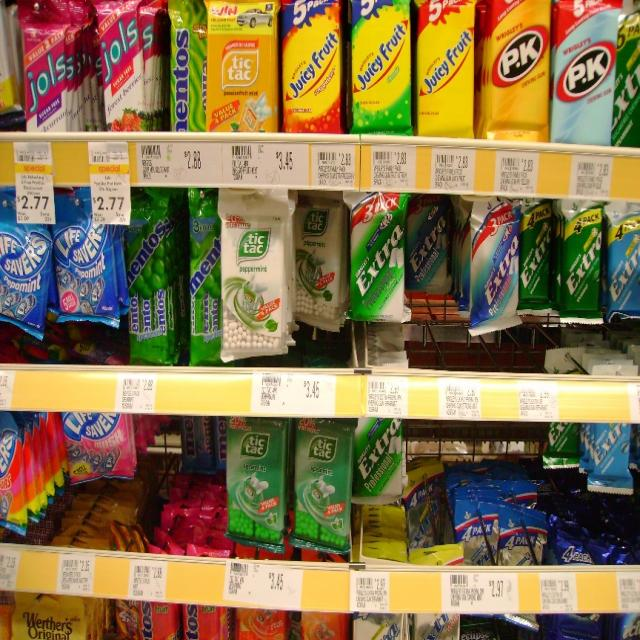q268: (217, 182, 295, 367), (296, 192, 352, 346)
